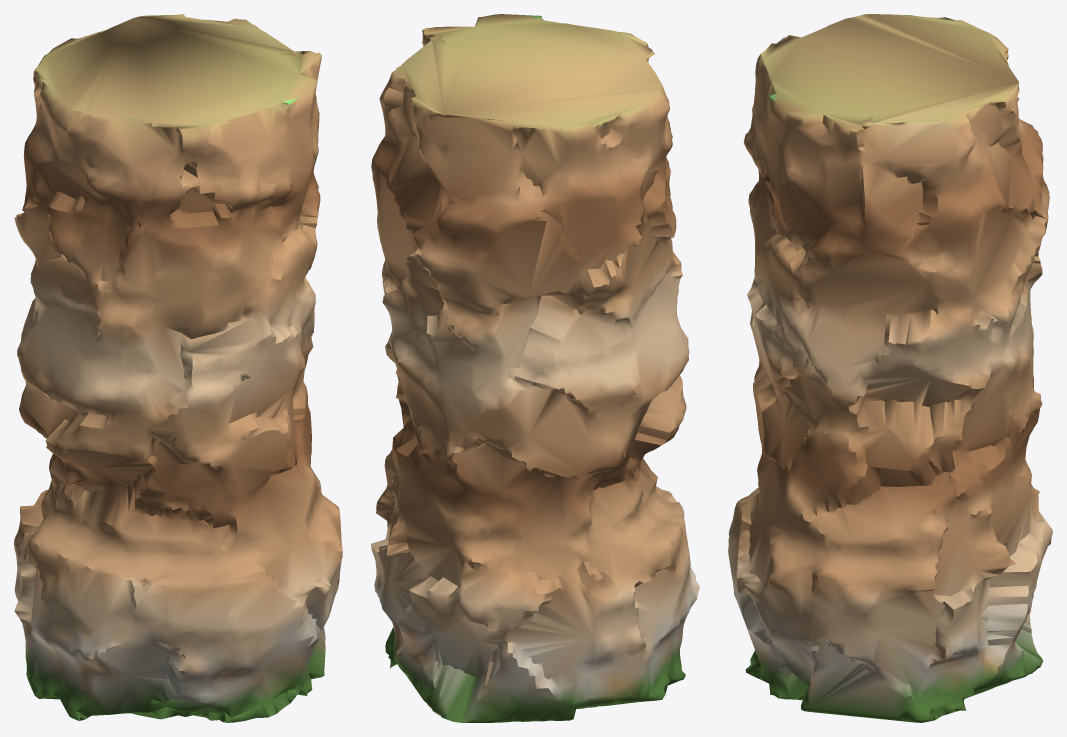
The model's file is shore_sea_stack.glb.
The picture shows the model from 3 angles, left to right: view 1: azimuth 30°, elevation 25°; view 2: azimuth 150°, elevation 25°; view 3: azimuth 270°, elevation 25°; orthographic projection.
Parts seen in each view (by area): view 1: shore_sea_stack; view 2: shore_sea_stack; view 3: shore_sea_stack.
Boxes of the visible parts, left/top/right/bottom form: shore_sea_stack: left=14, top=14, right=342, bottom=722; shore_sea_stack: left=371, top=14, right=699, bottom=722; shore_sea_stack: left=728, top=14, right=1052, bottom=722.
Bounding box in the file's own units: 11.34 × 22.6 × 11.28.
